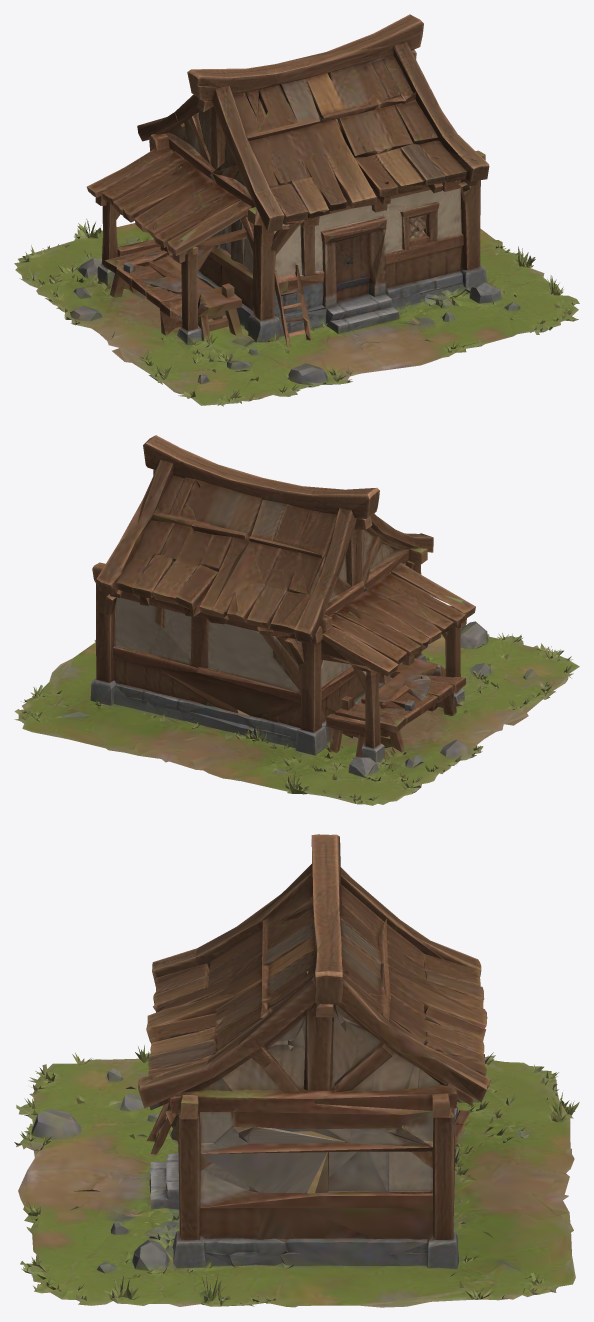
The model's file is siege.glb.
The picture shows the model from 3 angles, top to bottom: view 1: azimuth 30°, elevation 25°; view 2: azimuth 150°, elevation 25°; view 3: azimuth 270°, elevation 25°; orthographic projection. The views are drawn at different scales.
Bounding box in the file's own units: 1.89 × 1.01 × 1.77.
Materials: 1 (1 with a texture image).
